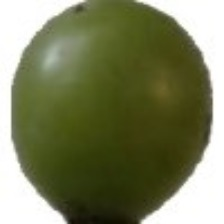grapes: (29, 35, 209, 222)
